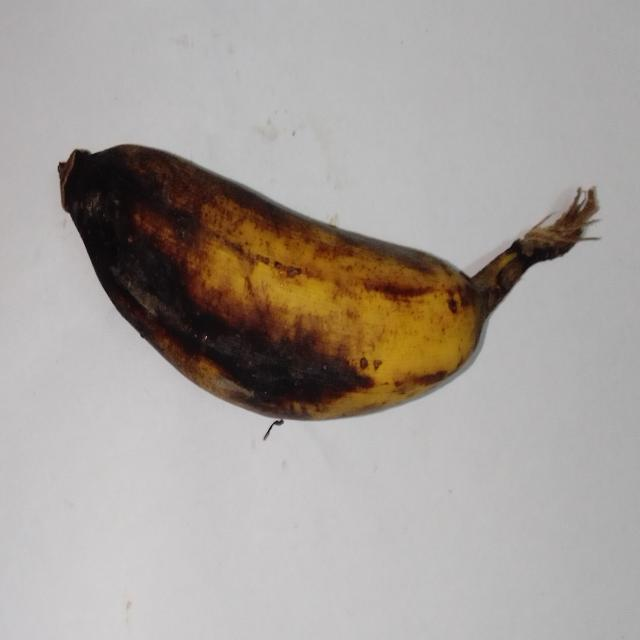banana: (59, 146, 597, 419)
